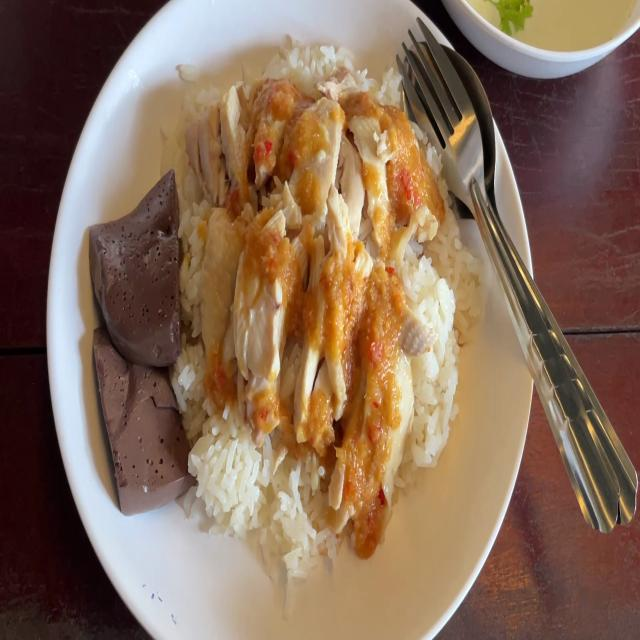chicken_rice: (184, 77, 412, 457)
noodle: (90, 317, 192, 497), (87, 166, 181, 360)
